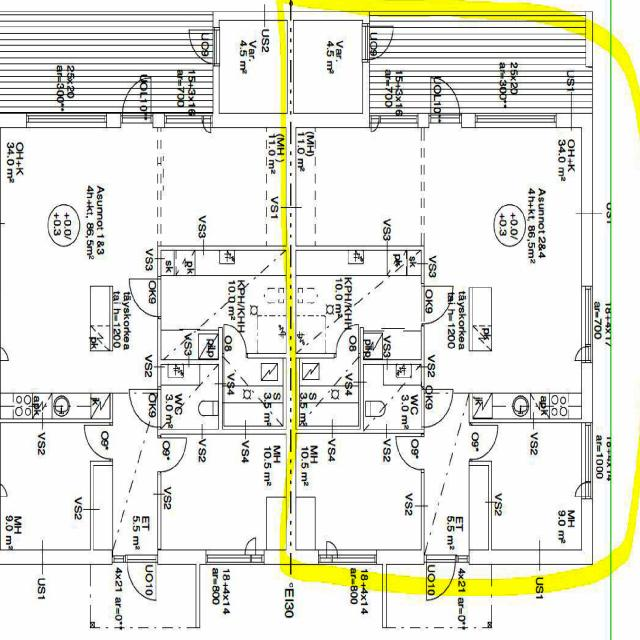door: (128, 550, 156, 601), (123, 76, 151, 127), (129, 278, 161, 316), (129, 389, 161, 426), (187, 30, 219, 63), (84, 425, 113, 459), (158, 438, 186, 472), (224, 324, 246, 358)
